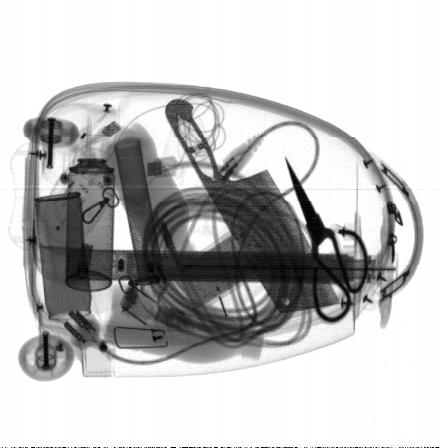Knife: (164, 99, 342, 311)
Powerbank: (176, 217, 273, 316)
Scissors: (284, 155, 369, 324)
Sprayer: (65, 133, 114, 292)
